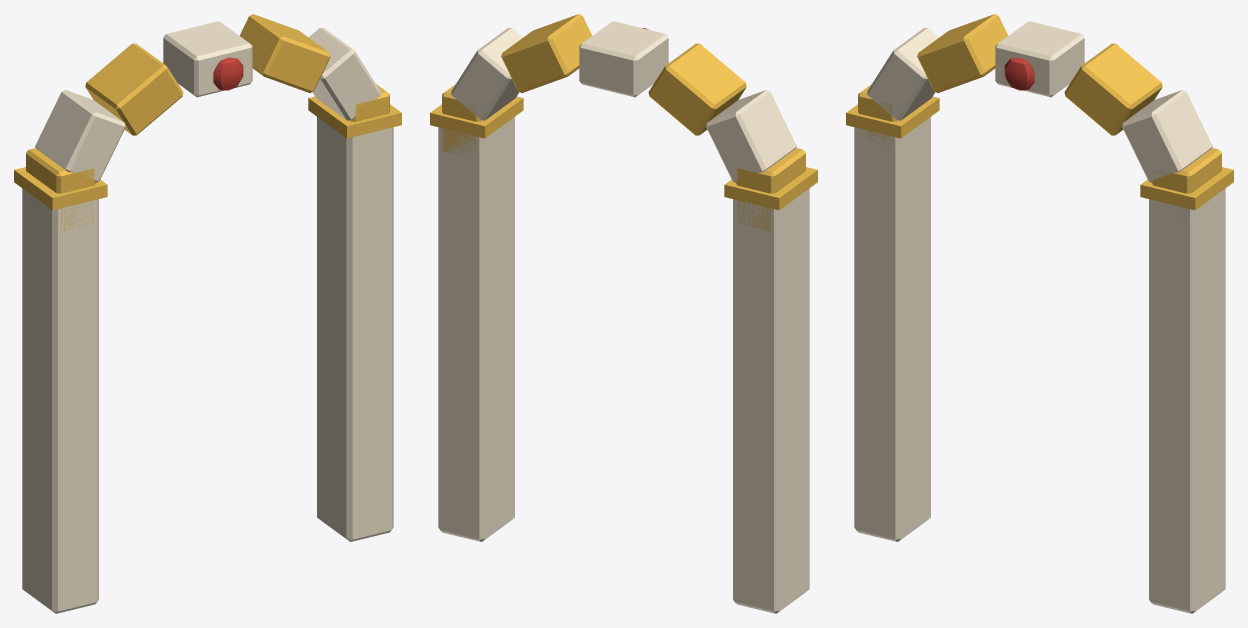
The model's file is PR_Tier_AltinKemer.fbx.
3 views of the same model, side by side, from view 1: azimuth 30°, elevation 25°; view 2: azimuth 150°, elevation 25°; view 3: azimuth 330°, elevation 25° (orthographic).
Parts seen in each view (by area): view 1: PR_Tier_AltinKemer; view 2: PR_Tier_AltinKemer; view 3: PR_Tier_AltinKemer.
Part boxes in pixels (x1=…): PR_Tier_AltinKemer: x1=14, y1=14, x2=401, y2=613; PR_Tier_AltinKemer: x1=430, y1=14, x2=817, y2=613; PR_Tier_AltinKemer: x1=846, y1=14, x2=1233, y2=613.
Size of the model in its own units: 1.78 by 2.55 by 0.388.
Materials: 1 (1 with a texture image).
